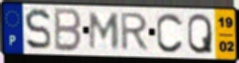B: (53, 7, 83, 54)
C: (155, 12, 185, 55)
M: (88, 11, 121, 51)
Q: (186, 12, 214, 56)
R: (120, 12, 151, 53)
S: (23, 7, 53, 52)
